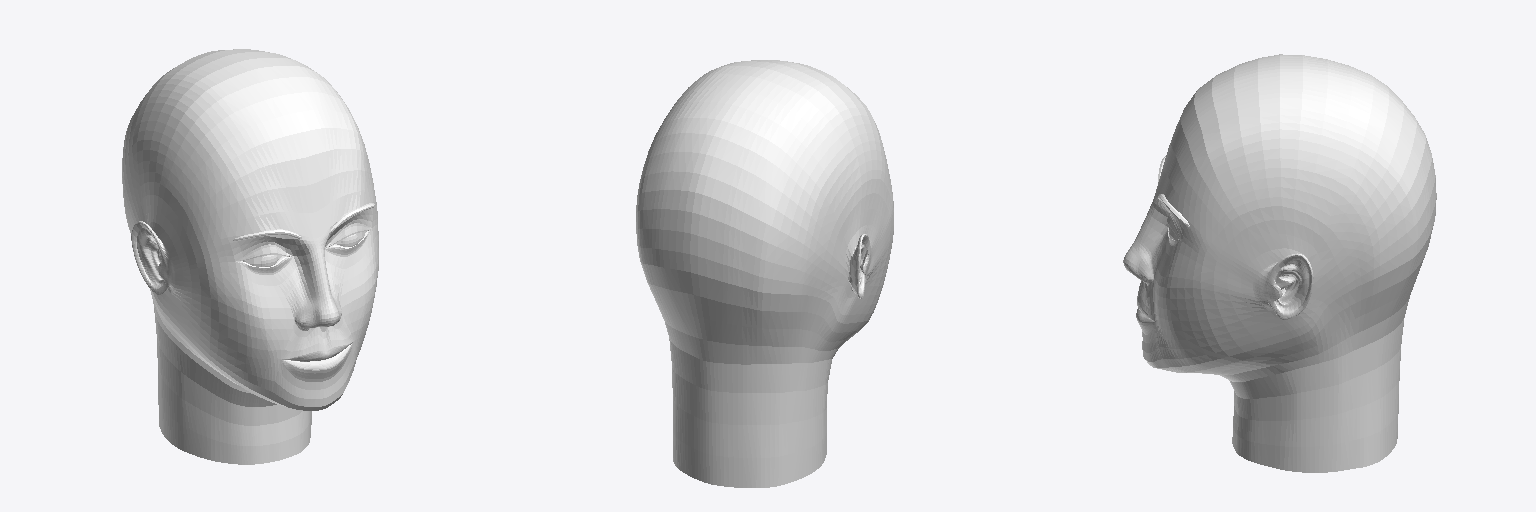
File: she.obj
The picture shows the model from 3 angles: view 1: azimuth 30°, elevation 25°; view 2: azimuth 150°, elevation 25°; view 3: azimuth 270°, elevation 25°; orthographic projection.
Bounding box in the file's own units: 14.82 × 24.41 × 18.53.